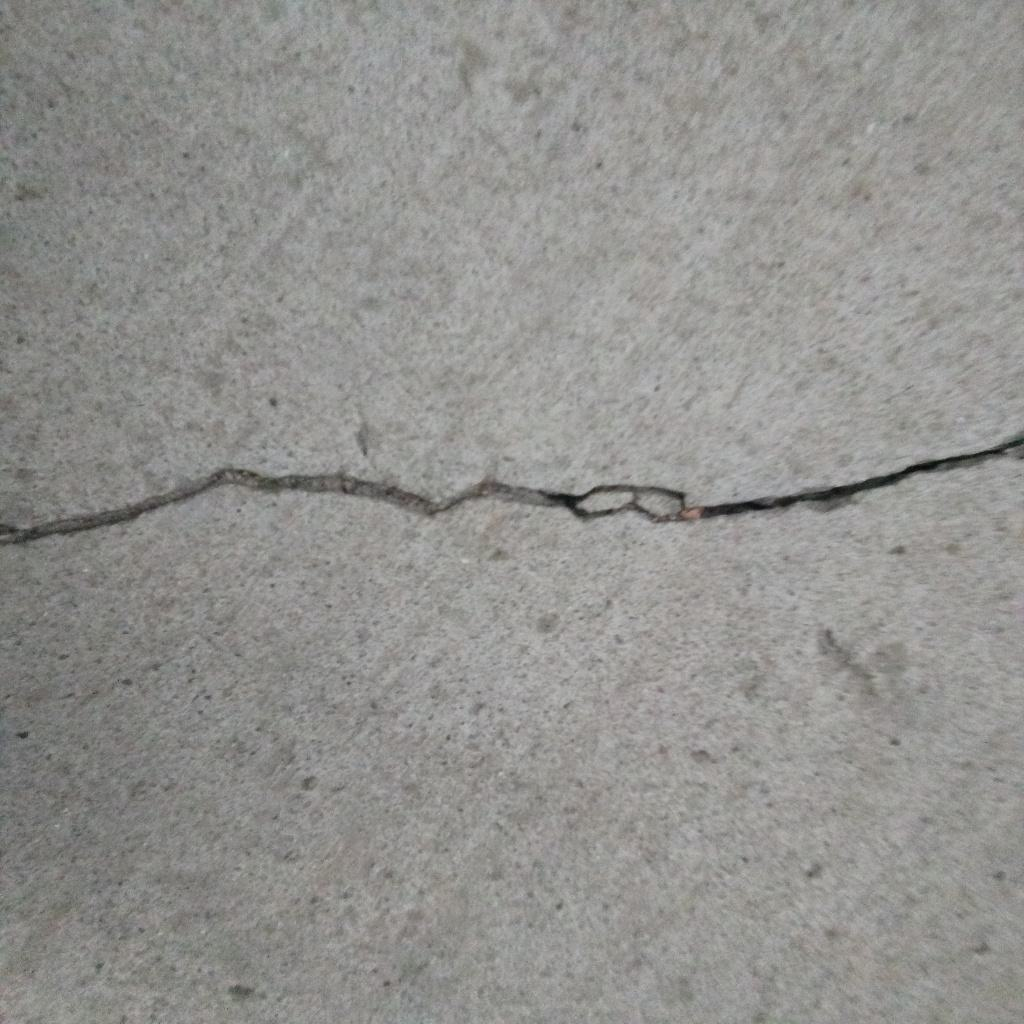Crack: (1, 431, 1024, 549)
